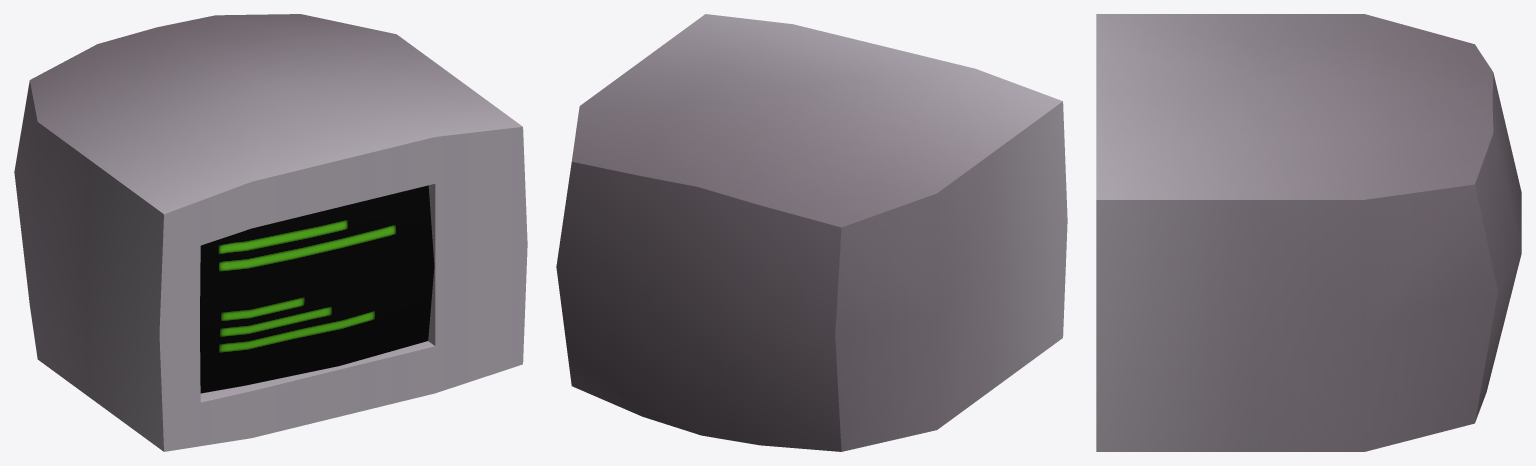
The model's file is Monitor_1.obj.
The picture shows the model from 3 angles, left to right: view 1: azimuth 30°, elevation 25°; view 2: azimuth 150°, elevation 25°; view 3: azimuth 270°, elevation 25°; orthographic projection. The views are drawn at different scales.
Parts seen in each view (by area): view 1: Monitor; view 2: Monitor; view 3: Monitor.
Boxes of the visible parts, bbox=[...] form: Monitor: bbox=[14, 14, 527, 451]; Monitor: bbox=[556, 14, 1067, 451]; Monitor: bbox=[1096, 14, 1521, 451].
Bounding box in the file's own units: 24.69 × 17.46 × 23.29.
Materials: 1 (1 with a texture image).
